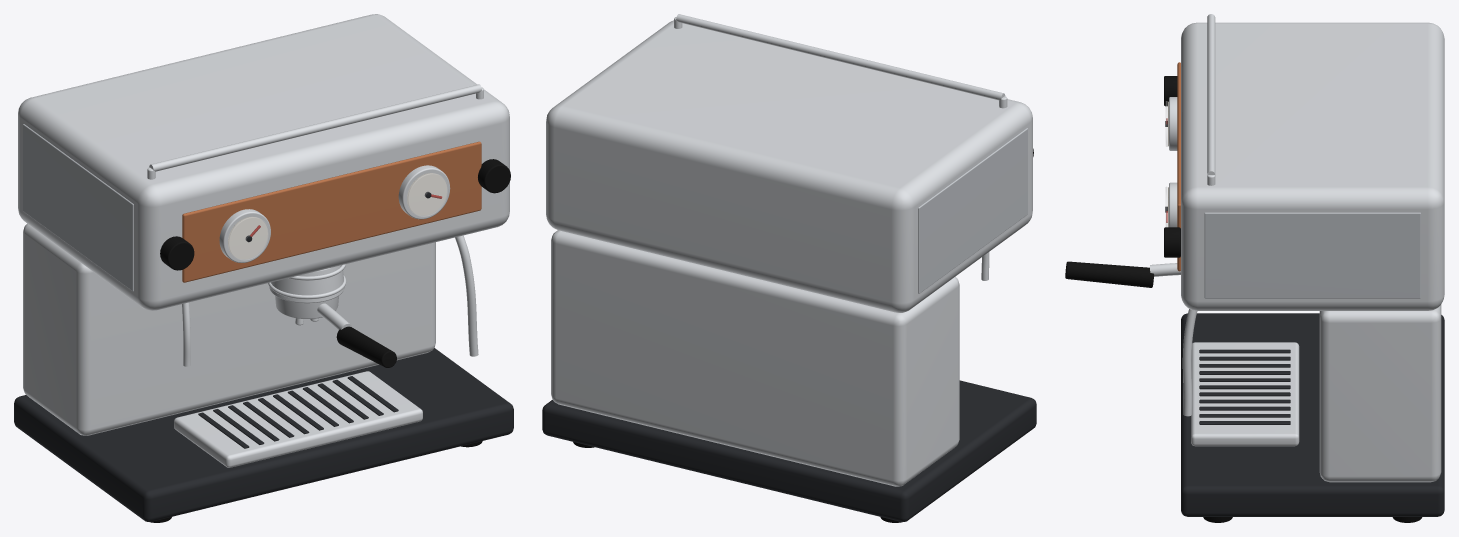
Rendered from espresso-machine.glb.
3 views of the same model, side by side, from view 1: azimuth 30°, elevation 25°; view 2: azimuth 150°, elevation 25°; view 3: azimuth 270°, elevation 25° (orthographic).
Parts seen in each view (by area): view 1: Body, Column, Plinth, Front plate, Drip tray, Side panel, Rail, Group head, Gauge glass, Gauge glass.001, Gauge face.001, Gauge face (+7 smaller); view 2: Body, Column, Plinth, Side panel, Rail; view 3: Body, Plinth, Column, Side panel.001, Drip tray, Portafilter grip, Rail, Steam wand, Front plate, Knob.001, Gauge bezel, Grate slot.001 (+5 smaller).
Part boxes in pixels (x1,y1,x2,y2): Body: [18, 14, 509, 310]; Column: [23, 223, 435, 435]; Plinth: [14, 348, 513, 521]; Front plate: [182, 141, 481, 282]; Drip tray: [174, 371, 422, 467]; Side panel: [23, 124, 133, 291]; Rail: [149, 84, 481, 171]; Group head: [269, 265, 344, 303]; Gauge glass: [228, 217, 268, 260]; Gauge glass.001: [408, 173, 448, 216]; Gauge face.001: [407, 173, 446, 215]; Gauge face: [228, 216, 267, 259]; Body: [546, 20, 1032, 312]; Column: [551, 230, 959, 486]; Plinth: [542, 380, 1036, 521]; Side panel: [918, 128, 1027, 293]; Rail: [676, 14, 1005, 100]; Body: [1181, 22, 1444, 310]; Plinth: [1181, 313, 1444, 516]; Column: [1319, 304, 1441, 482]; Side panel.001: [1204, 212, 1420, 298]; Drip tray: [1191, 342, 1299, 446]; Portafilter grip: [1065, 261, 1153, 287]; Rail: [1207, 14, 1215, 175]; Steam wand: [1182, 309, 1197, 416]; Front plate: [1177, 62, 1180, 271]; Knob.001: [1164, 227, 1180, 257]; Gauge bezel: [1169, 97, 1177, 150]; Grate slot.001: [1199, 356, 1290, 360].
Bounding box in the file's own units: 1.25 × 1.14 × 1.12.
